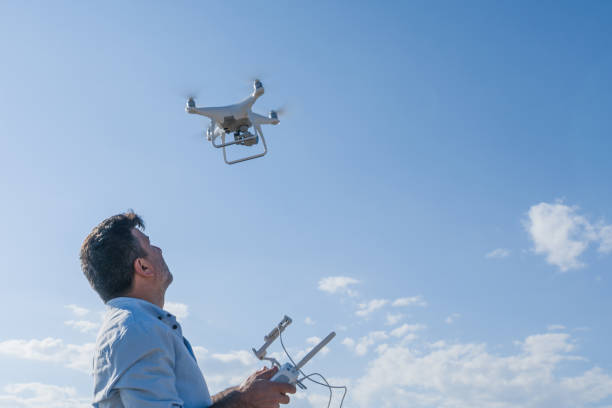Drone: (177, 76, 284, 168)
